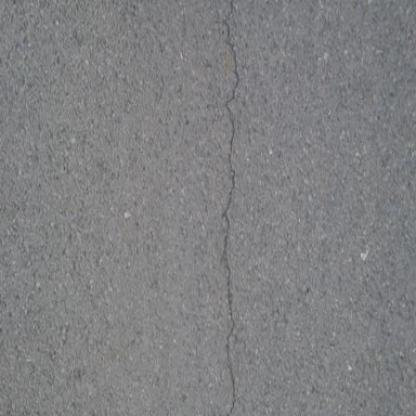Cracks: (207, 0, 258, 415)
